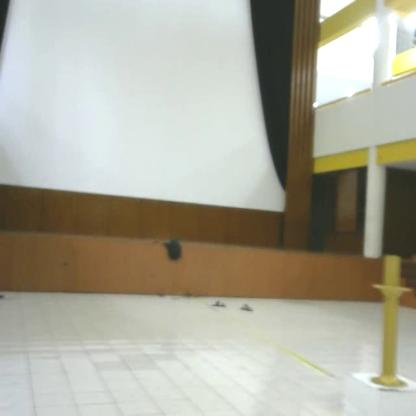pole: (367, 251, 416, 398)
